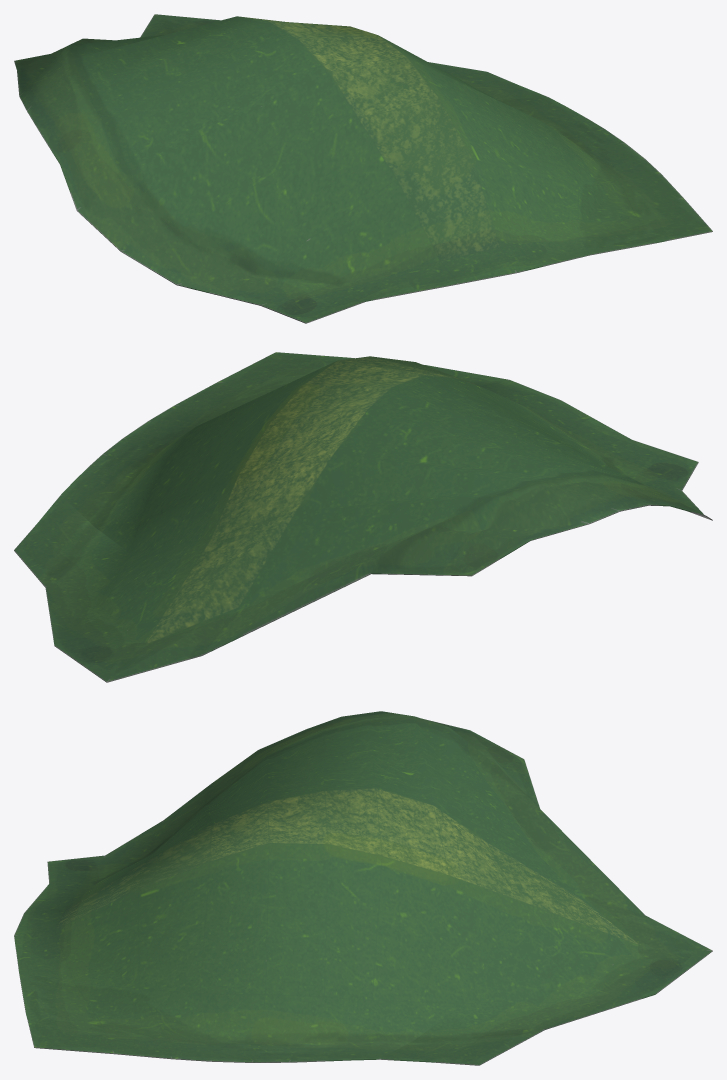
File: Hill.fbx
3 views of the same model, one above another, from view 1: azimuth 30°, elevation 25°; view 2: azimuth 150°, elevation 25°; view 3: azimuth 270°, elevation 25° (orthographic). The views are drawn at different scales.
Parts seen in each view (by area): view 1: TempleHill; view 2: TempleHill; view 3: TempleHill.
Boxes of the visible parts, x1,y1,x2,y2 form: TempleHill: (14,14,712,323); TempleHill: (14,352,712,682); TempleHill: (14,711,712,1065).
Size of the model in its own units: 2448 by 681 by 2865.
